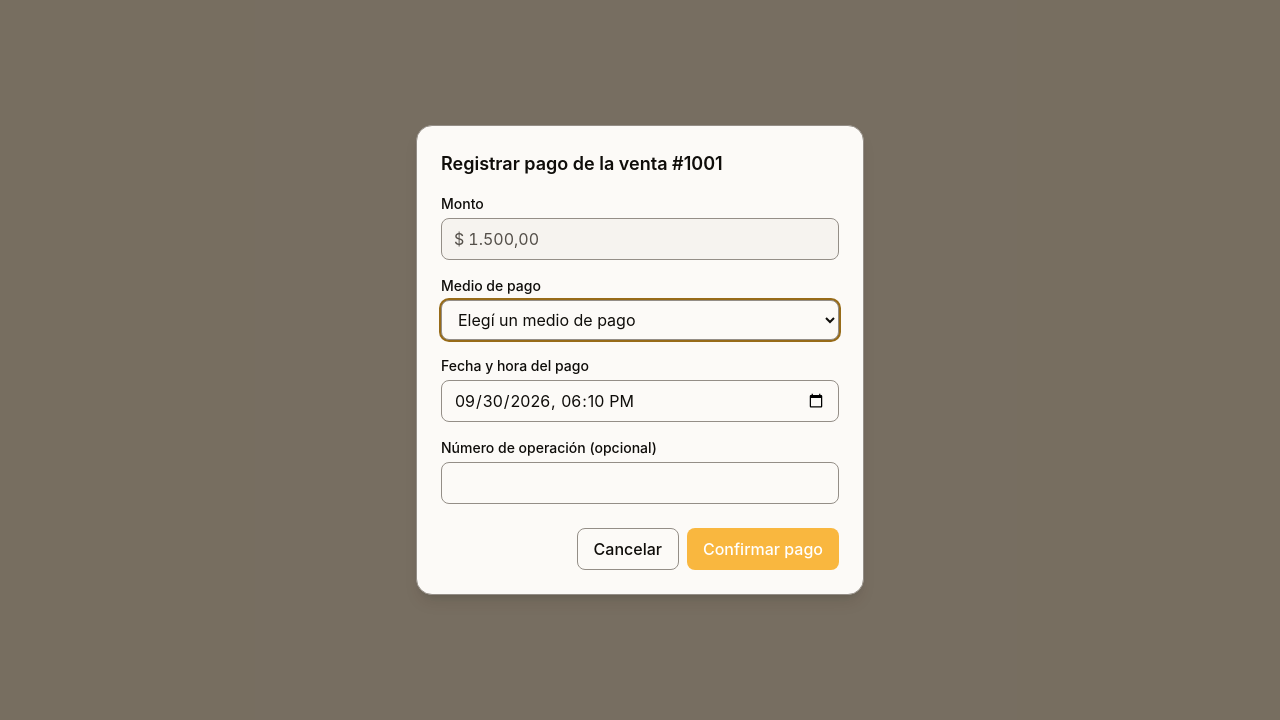
Scenario: ModalRegistrarPago - en línea › envía la fecha ELEGIDA, el medio, la referencia recortada, el saldo y el usuarioId
The image size is (1280, 720).
Select "Transferencia" in the dropdown labelled "Medio de pago". click: (640, 320)
box: [441, 300, 839, 340]
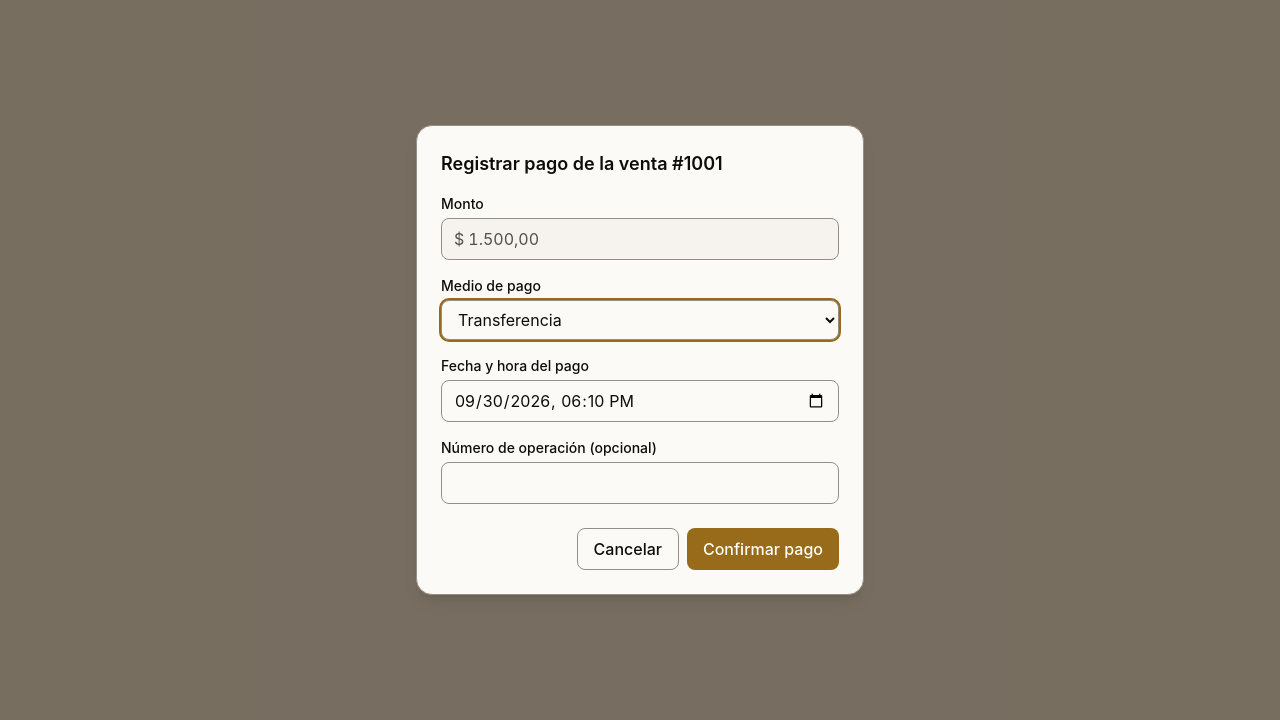
Replace the text in the field labelled "Fecha y hora del pago" with "2026-03-10T09:45". click: (640, 401)
box: [441, 380, 839, 422]
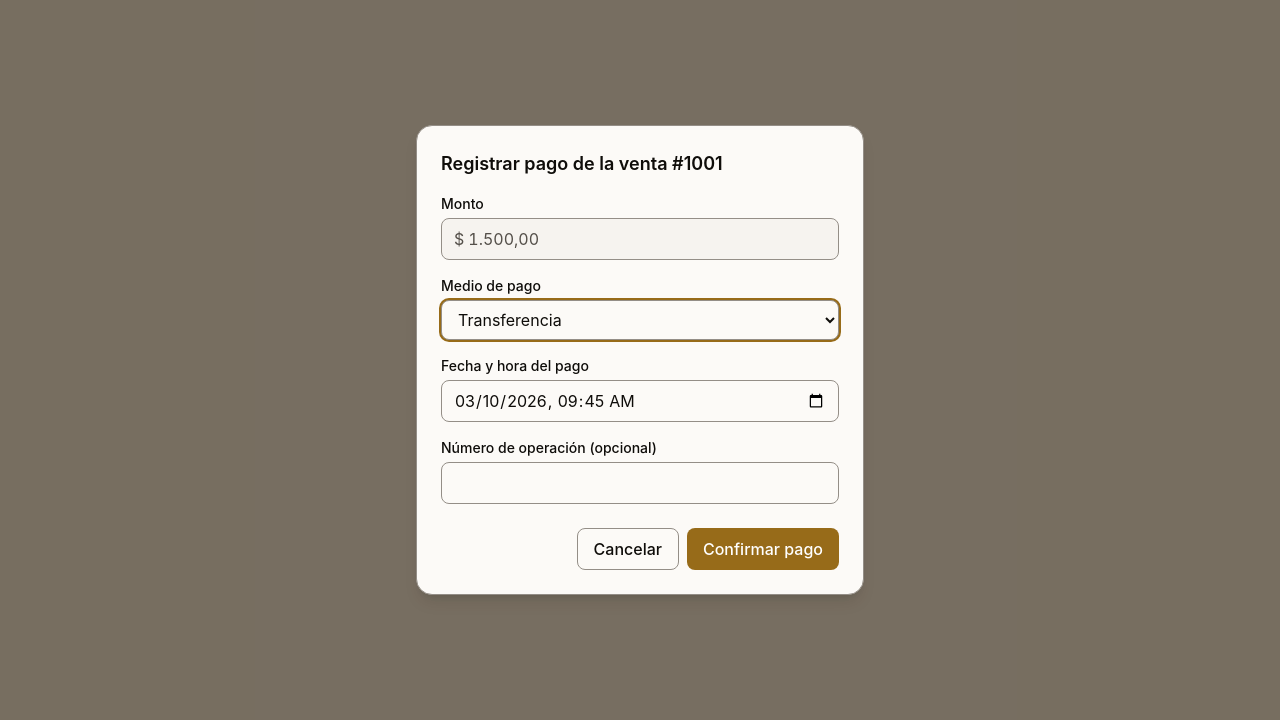
Type "  OP-12345  " into the field labelled "Número de operación (opcional)". click: (640, 483)
box: [441, 462, 839, 504]
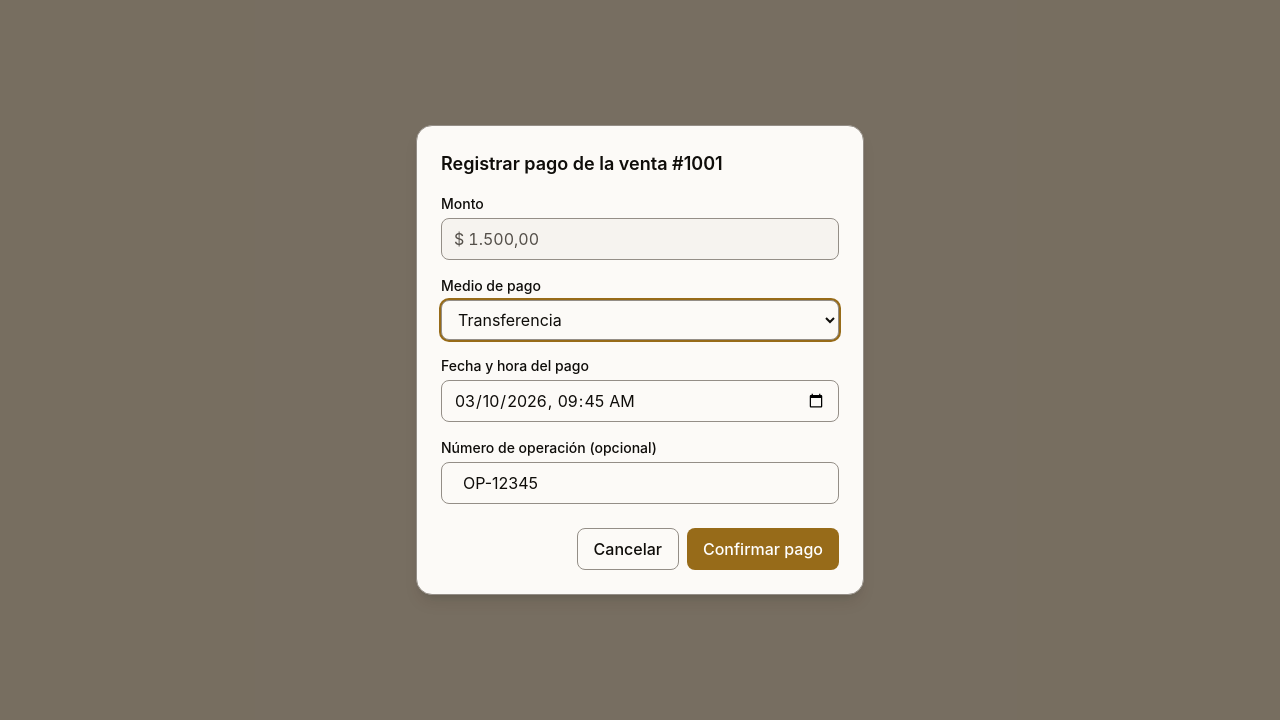
Click the button "Confirmar pago". click: (763, 549)
box: [687, 528, 839, 570]
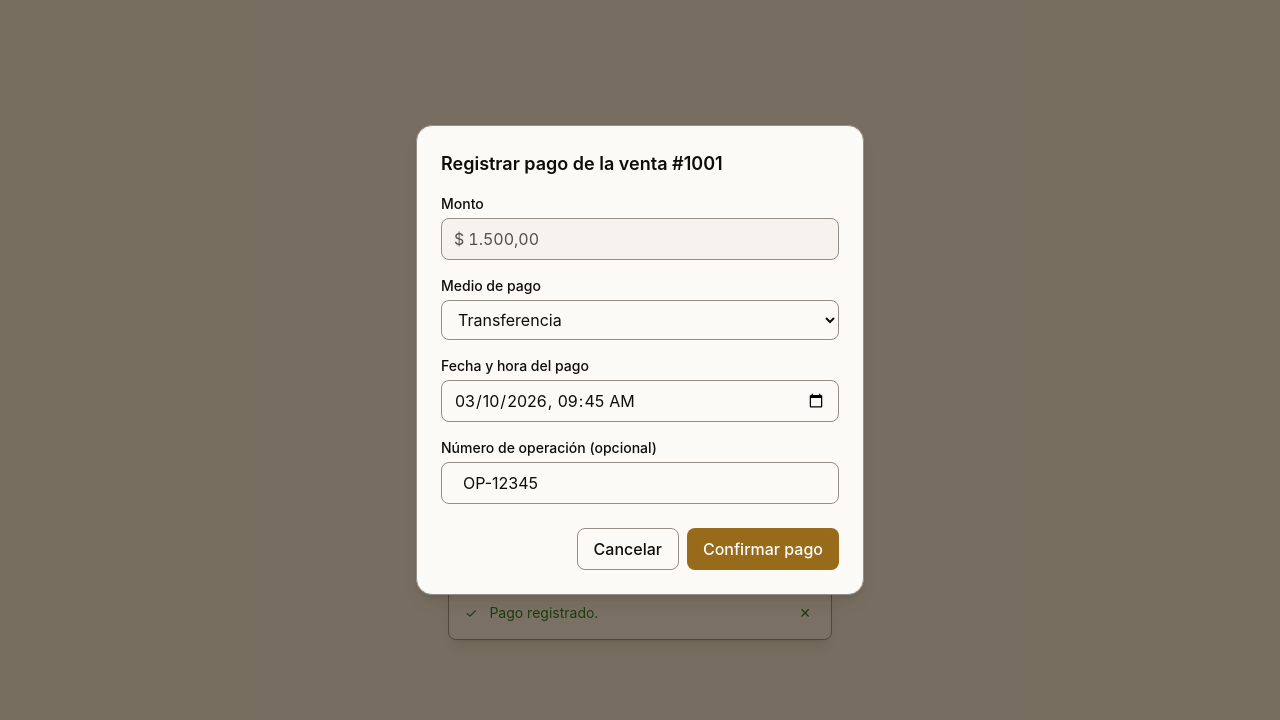
Result: the text "Pago registrado." is shown at [489, 604, 598, 621]
